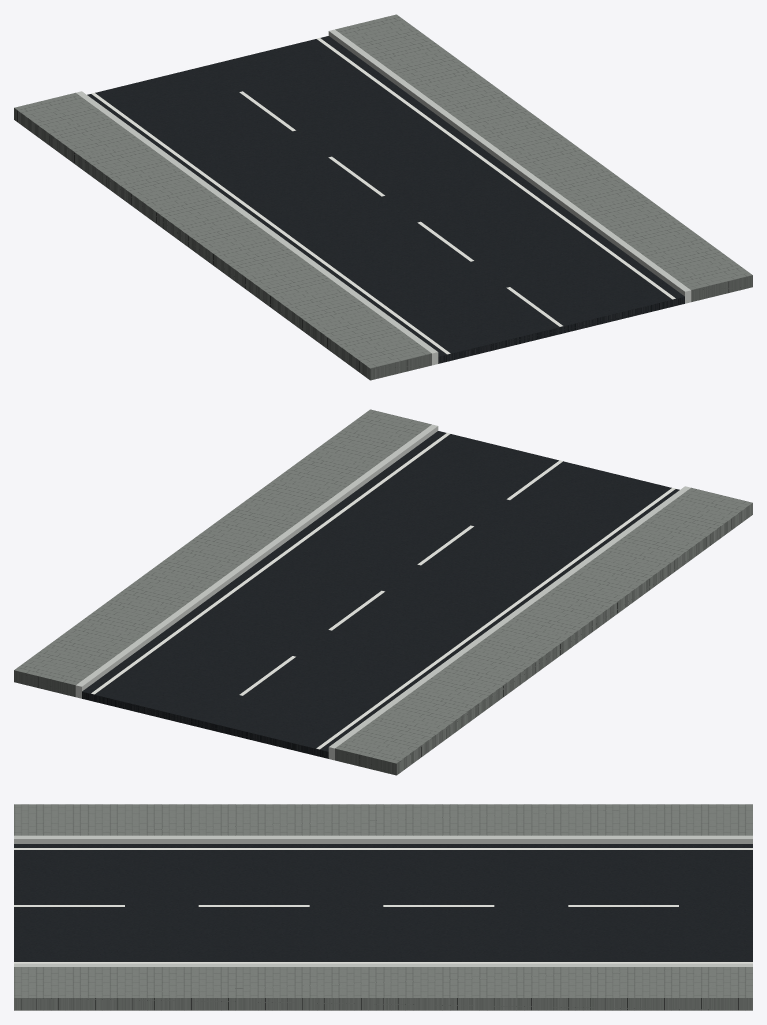
Rendered from RK_Road_Urban_20m.fbx.
3 renders of one model, top to bottom at view 1: azimuth 30°, elevation 25°; view 2: azimuth 150°, elevation 25°; view 3: azimuth 270°, elevation 25°, orthographic. The views are drawn at different scales.
Visible parts, largest first — view 1: COL_Asphalt, COL_Paving, COL_Concrete, Markings_White, Curb_Concrete; view 2: COL_Asphalt, COL_Paving, COL_Concrete, Markings_White, Curb_Concrete; view 3: COL_Asphalt, COL_Paving, COL_Concrete, Curb_Concrete, Markings_White.
Part boxes in pixels (x1=…): COL_Asphalt: x1=87, y1=36, x2=684, y2=363; COL_Paving: x1=14, y1=14, x2=752, y2=380; COL_Concrete: x1=76, y1=29, x2=691, y2=365; Markings_White: x1=91, y1=37, x2=675, y2=354; Curb_Concrete: x1=76, y1=30, x2=690, y2=352; COL_Asphalt: x1=82, y1=431, x2=679, y2=758; COL_Paving: x1=14, y1=409, x2=752, y2=775; COL_Concrete: x1=75, y1=424, x2=690, y2=760; Markings_White: x1=91, y1=432, x2=675, y2=749; Curb_Concrete: x1=82, y1=425, x2=688, y2=748; COL_Asphalt: x1=14, y1=844, x2=752, y2=961; COL_Paving: x1=14, y1=804, x2=752, y2=1010; COL_Concrete: x1=14, y1=835, x2=752, y2=966; Curb_Concrete: x1=14, y1=835, x2=752, y2=966; Markings_White: x1=14, y1=848, x2=752, y2=963.
Size of the model in its own units: 1240 by 37 by 2000.
Materials: 4 (2 with a texture image).
